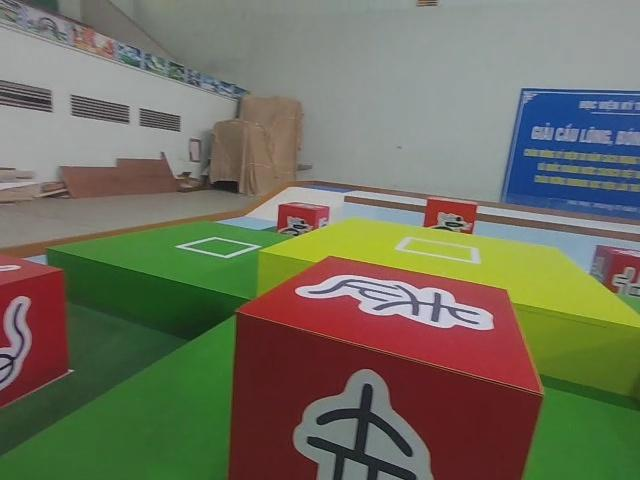R1: (421, 194, 480, 237), (274, 197, 331, 236)
R2 Fake: (225, 250, 549, 480)
R2 Real: (0, 251, 70, 410)
